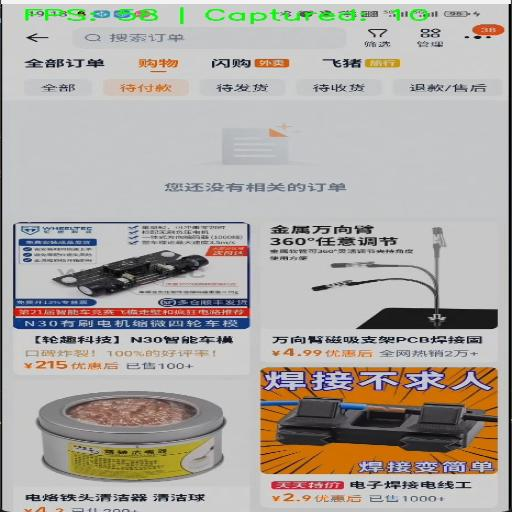back: (9, 27, 52, 49)
butten: (261, 366, 498, 509), (263, 219, 498, 328)
input: (74, 27, 344, 48)
